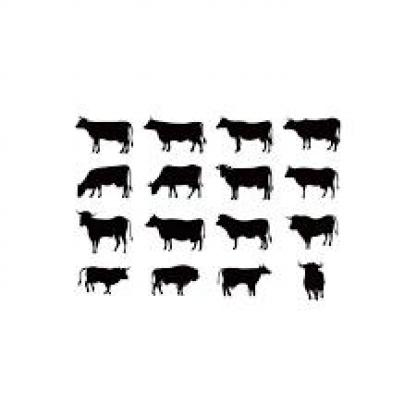cow: (76, 211, 135, 253), (78, 114, 135, 154), (142, 117, 209, 151), (143, 214, 206, 250), (214, 164, 274, 200), (215, 214, 273, 250), (217, 262, 273, 298), (216, 117, 274, 151), (281, 118, 342, 150), (148, 164, 203, 198), (76, 165, 133, 197), (283, 165, 338, 197), (287, 215, 340, 247), (148, 264, 200, 296), (76, 266, 129, 294), (296, 261, 327, 301)
